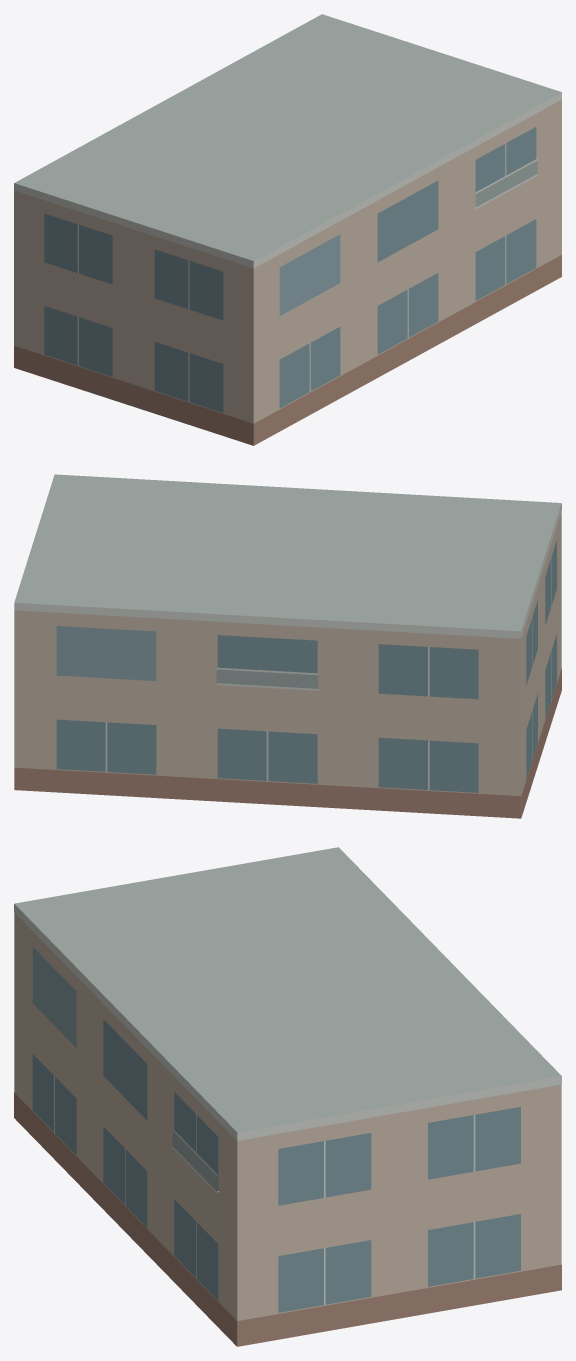
The model's file is residential-cde27ac6-f1dd-4771-9515-39ef16c59191.glb.
3 views of the same model, one above another, from view 1: azimuth 30°, elevation 25°; view 2: azimuth 150°, elevation 25°; view 3: azimuth 270°, elevation 25° (orthographic). The views are drawn at different scales.
Parts seen in each view (by area): view 1: residential-cde27ac6-f1dd-4771-9515-39ef16c59191.tmp; view 2: residential-cde27ac6-f1dd-4771-9515-39ef16c59191.tmp; view 3: residential-cde27ac6-f1dd-4771-9515-39ef16c59191.tmp.
Boxes of the visible parts, box(x1,y1,x2,y2) form: residential-cde27ac6-f1dd-4771-9515-39ef16c59191.tmp: box(14, 14, 561, 445); residential-cde27ac6-f1dd-4771-9515-39ef16c59191.tmp: box(14, 474, 561, 818); residential-cde27ac6-f1dd-4771-9515-39ef16c59191.tmp: box(14, 847, 561, 1346).
Size of the model in its own units: 17.43 by 6.1 by 14.14.
